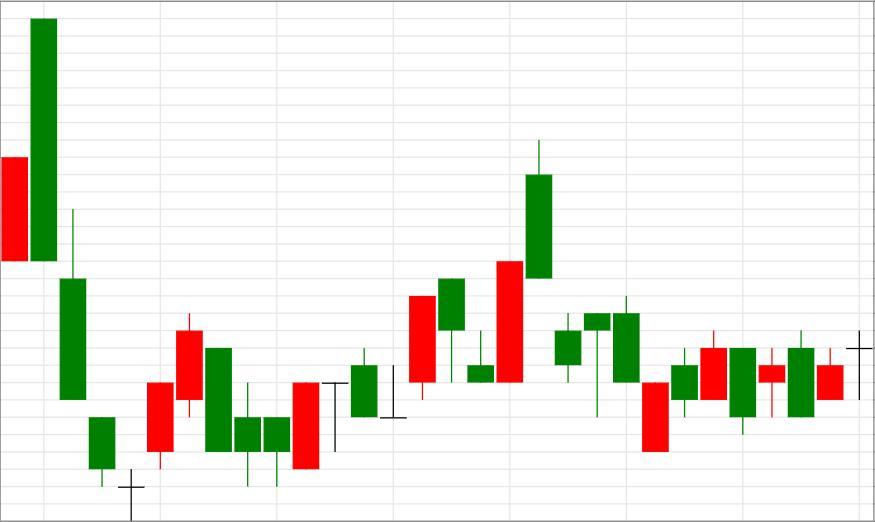morning_star_rise: (30, 18, 175, 520)
